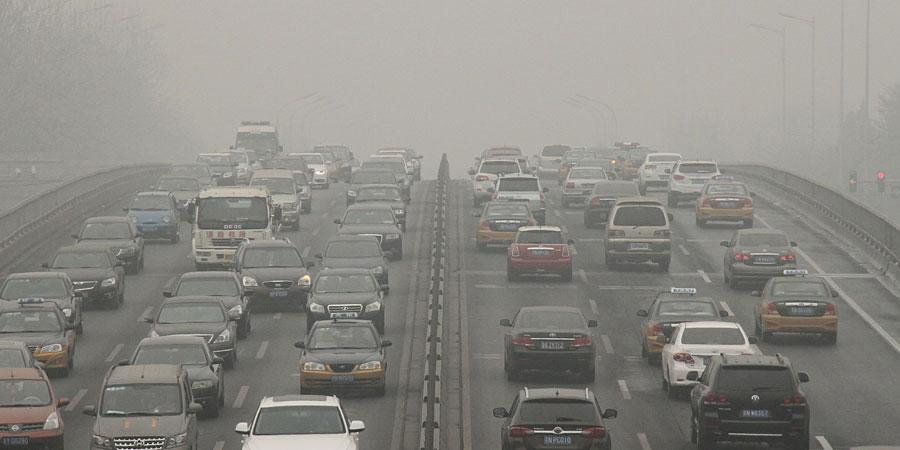bus: (189, 183, 282, 271), (231, 120, 284, 177)
car: (687, 350, 815, 449), (82, 359, 204, 450), (119, 337, 226, 422), (490, 385, 618, 450), (501, 304, 599, 387), (660, 318, 759, 400), (294, 315, 393, 395), (142, 292, 239, 371), (234, 392, 366, 450), (639, 283, 731, 366), (226, 233, 313, 314), (752, 266, 841, 345), (162, 264, 252, 336), (303, 267, 390, 336), (1, 270, 84, 342), (1, 301, 77, 379), (39, 243, 126, 311), (1, 364, 71, 448), (314, 233, 394, 297), (603, 201, 674, 272), (721, 225, 799, 288), (71, 214, 145, 276), (504, 222, 577, 284), (332, 202, 404, 261), (246, 169, 304, 230), (695, 173, 757, 230), (1, 342, 48, 414), (122, 190, 181, 243), (665, 157, 728, 205), (583, 177, 643, 224), (345, 168, 405, 215), (493, 174, 549, 223), (148, 173, 201, 222), (352, 185, 408, 231), (469, 159, 526, 204), (357, 155, 411, 202), (634, 150, 688, 195), (558, 164, 612, 206), (268, 167, 313, 215), (167, 162, 218, 204), (605, 139, 657, 177), (311, 142, 356, 185), (284, 151, 328, 194), (477, 146, 531, 181), (375, 144, 422, 182), (210, 145, 251, 188), (194, 152, 238, 190), (224, 146, 266, 185), (556, 149, 601, 184), (534, 143, 578, 177), (576, 157, 619, 189)
